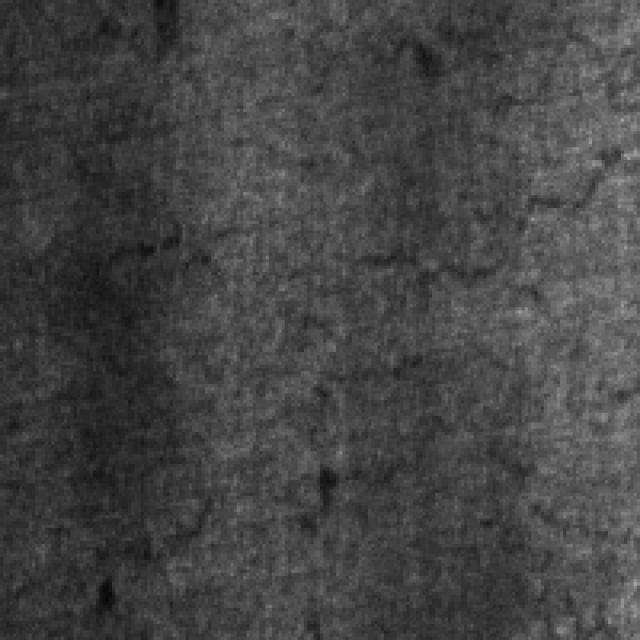crazing: (304, 25, 611, 282)
